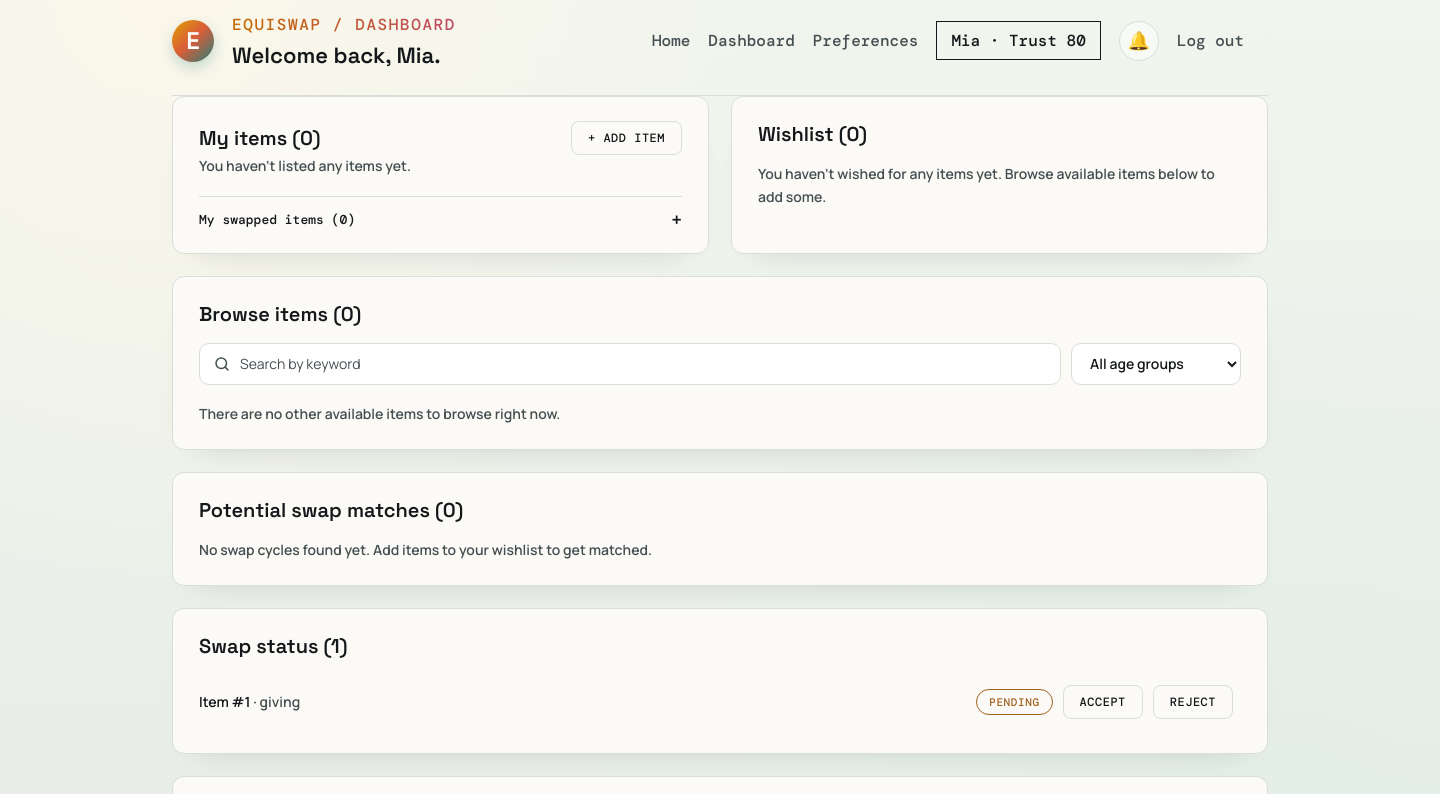
Test case: DashboardPage › accepts a swap proposal and updates its status
This screenshot has width=1440, height=794.
Expected: the heading "Swap status (1)" is shown, [199, 633, 348, 659]
Click the button "Accept" at (1103, 702), box [1063, 685, 1143, 719]
(page scrolled)
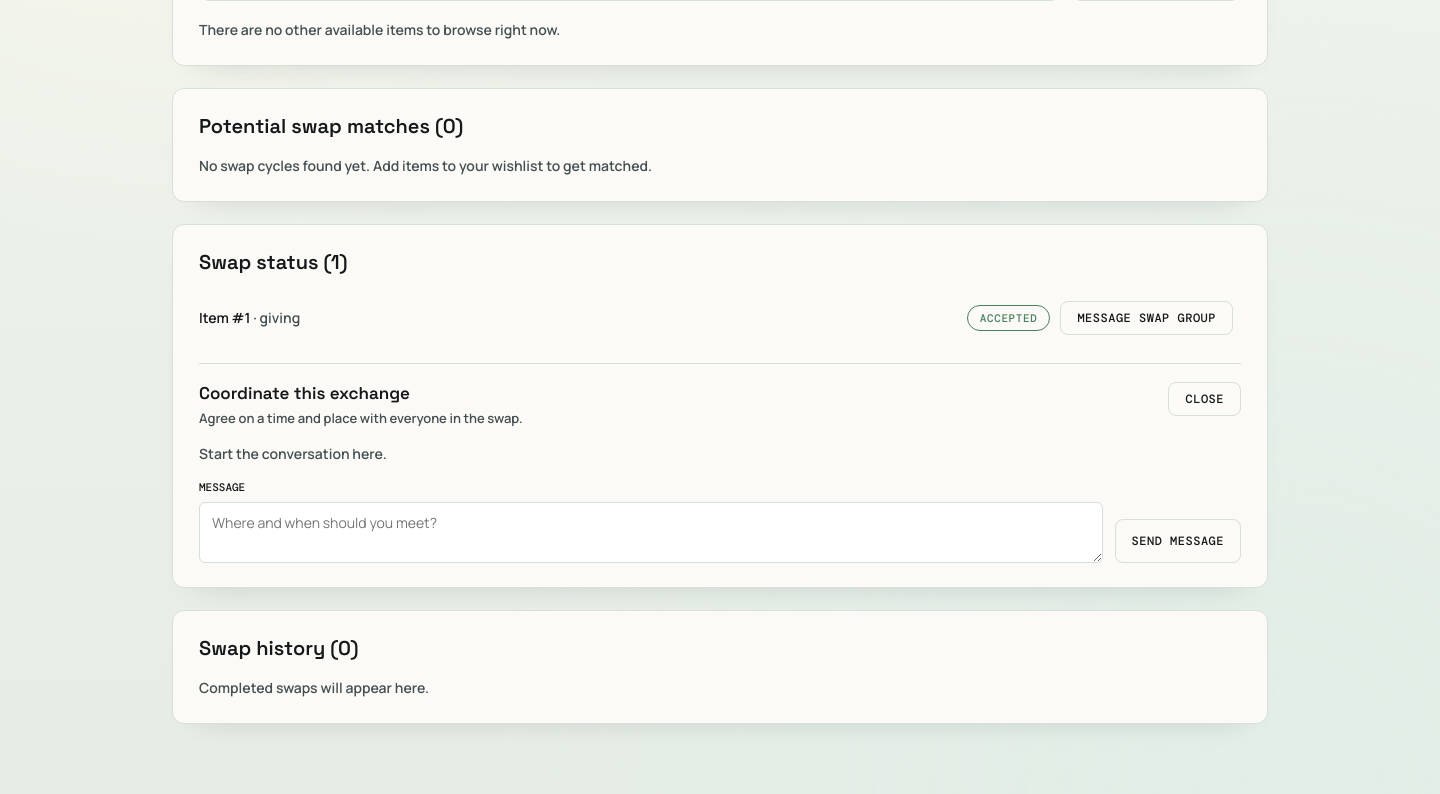
Result: the text "accepted" is shown at [967, 305, 1050, 331]
Result: the element named "Swap group messages" is shown at [199, 363, 1241, 563]
